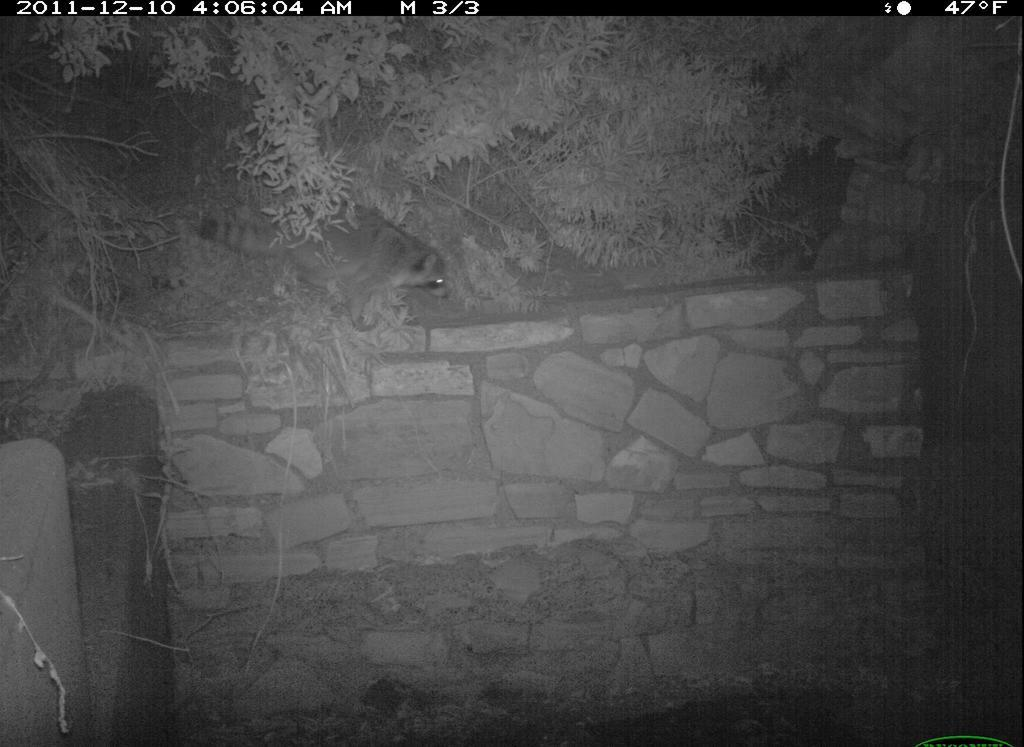raccoon: (184, 186, 498, 342)
